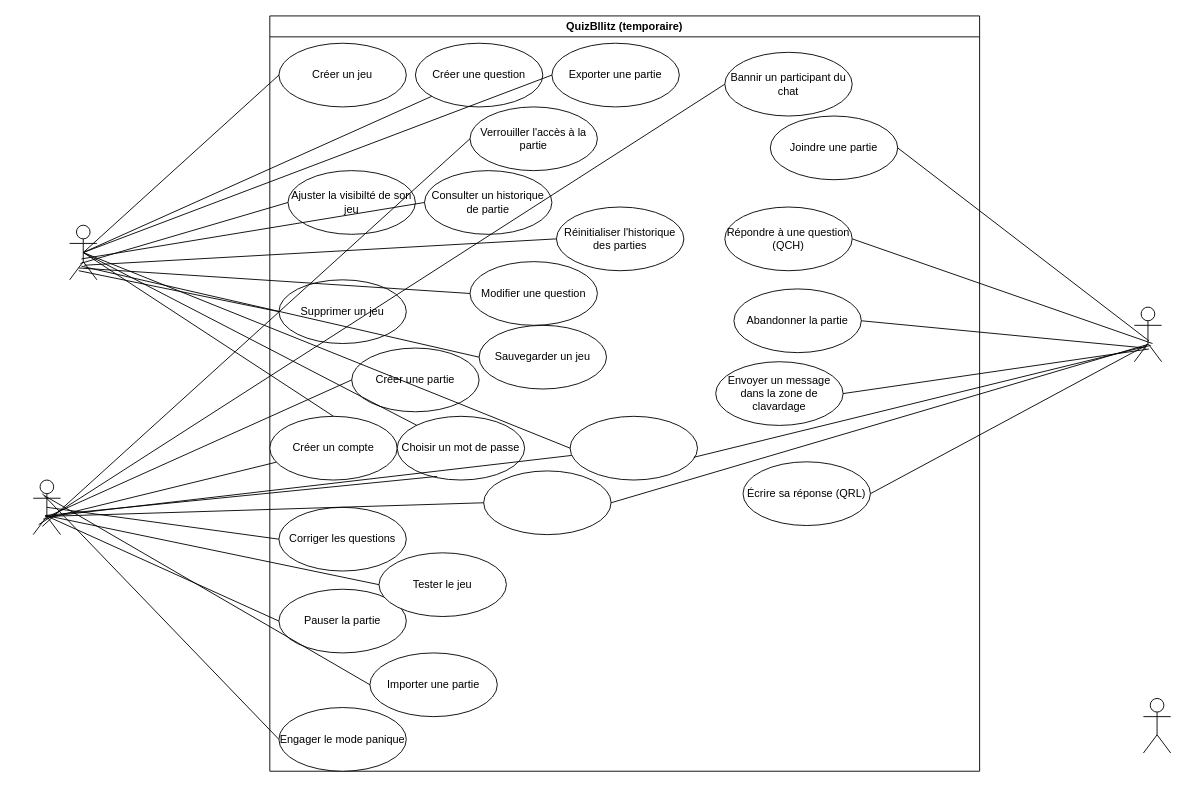
This 1192x788 diagram has some shape labels left out. Each missing label, with the box of its shape:
Administrateur: (69, 224, 97, 280)
Choisir un nom d'utilisateur: (569, 415, 698, 480)
Organisateur: (32, 479, 61, 535)
Participant: (1133, 306, 1162, 362)
Serveur: (1143, 698, 1171, 753)
Voir les résultats: (483, 470, 611, 535)
